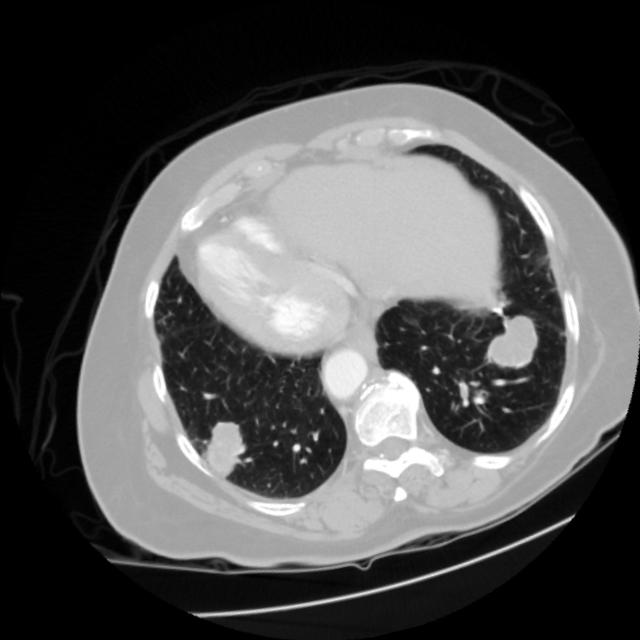nodule: (454, 282, 576, 403)
